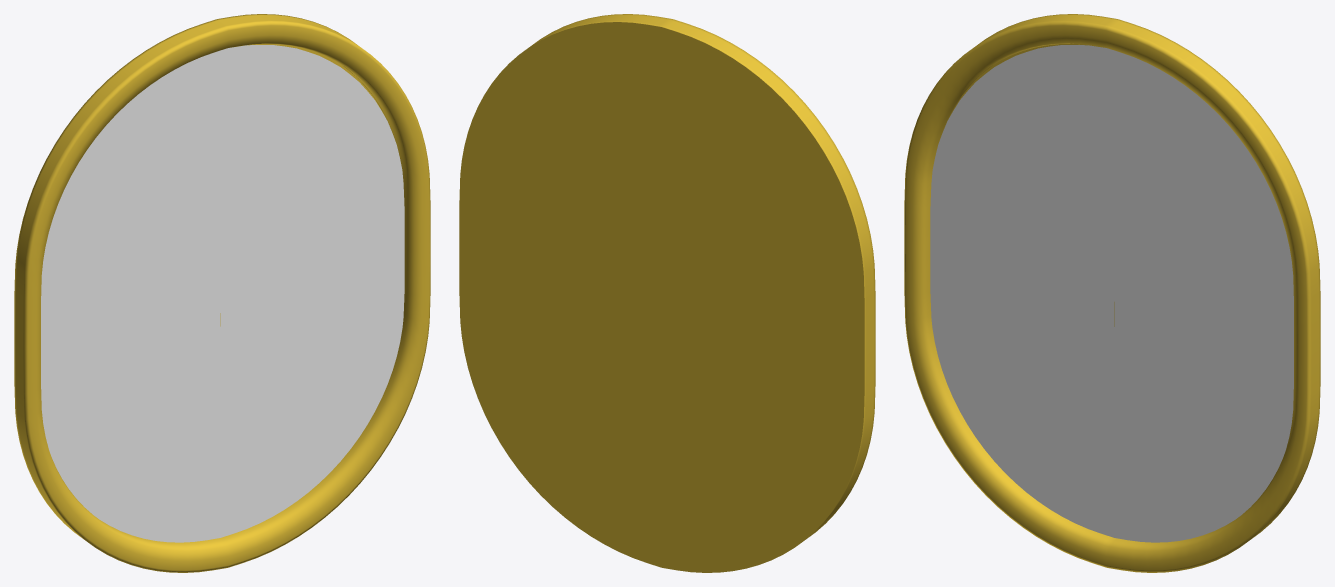
The model's file is miror.gltf.
3 views of the same model, side by side, from view 1: azimuth 30°, elevation 25°; view 2: azimuth 150°, elevation 25°; view 3: azimuth 330°, elevation 25° (orthographic).
Parts seen in each view (by area): view 1: ayna_01:pCube3_lambert65_0, ayna_01:pCube3_lambert62_0; view 2: ayna_01:pCube3_lambert62_0; view 3: ayna_01:pCube3_lambert65_0, ayna_01:pCube3_lambert62_0.
Boxes of the visible parts, x1,y1,x2,y2 form: ayna_01:pCube3_lambert65_0: (41, 45, 404, 542); ayna_01:pCube3_lambert62_0: (14, 14, 430, 572); ayna_01:pCube3_lambert62_0: (459, 14, 875, 572); ayna_01:pCube3_lambert65_0: (930, 45, 1293, 542); ayna_01:pCube3_lambert62_0: (904, 14, 1320, 572).
Size of the model in its own units: 2.74 by 3.49 by 0.1392.
